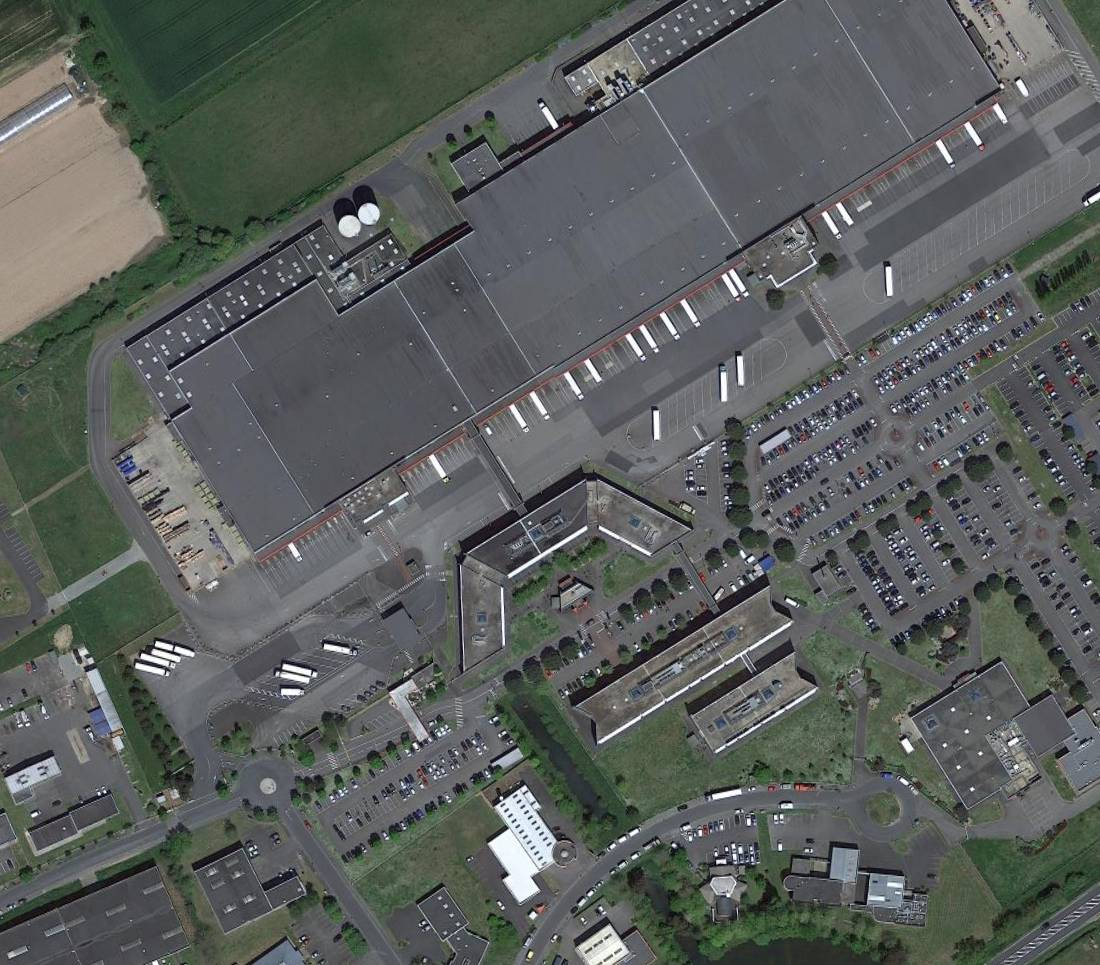large vehicle: (155, 641, 196, 658), (728, 268, 751, 298), (964, 122, 987, 152), (625, 332, 648, 361), (821, 211, 844, 240), (529, 391, 551, 421), (660, 311, 682, 341), (721, 273, 743, 303), (935, 139, 957, 169), (429, 455, 451, 484), (509, 405, 531, 434), (639, 325, 661, 354), (680, 299, 702, 328), (538, 102, 560, 131), (141, 653, 177, 670), (282, 663, 320, 679), (135, 662, 172, 678), (564, 372, 585, 400), (706, 788, 743, 803), (584, 358, 603, 384), (151, 648, 183, 663), (836, 202, 855, 227), (276, 671, 311, 684), (323, 644, 359, 656), (993, 104, 1009, 125), (720, 366, 728, 402), (885, 266, 894, 297), (653, 410, 660, 441), (737, 356, 744, 387), (281, 688, 306, 696)
storage tank: (338, 215, 362, 239), (358, 202, 381, 226)
